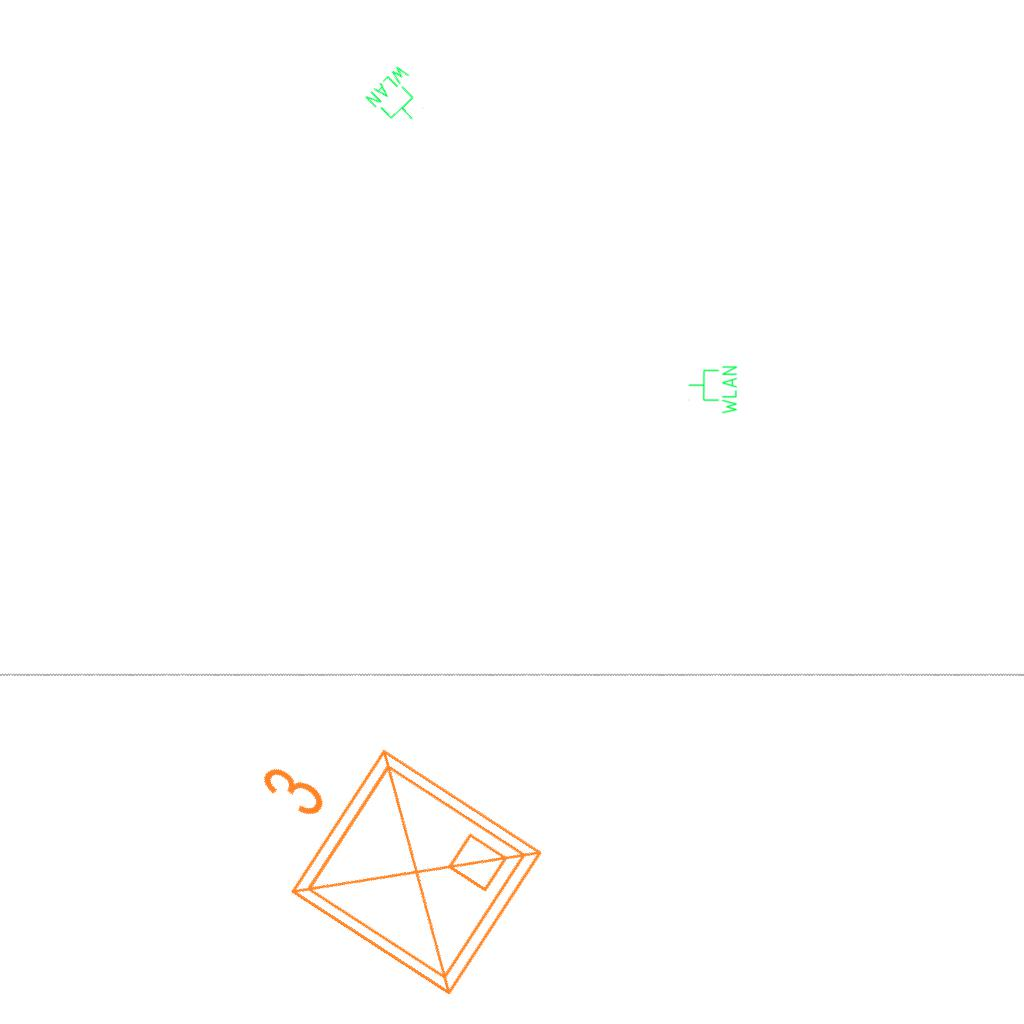Einbaudownlights_LED_Konferenzraeume: (197, 684, 563, 1022)
WLAN: (362, 61, 436, 135), (687, 364, 739, 416)
